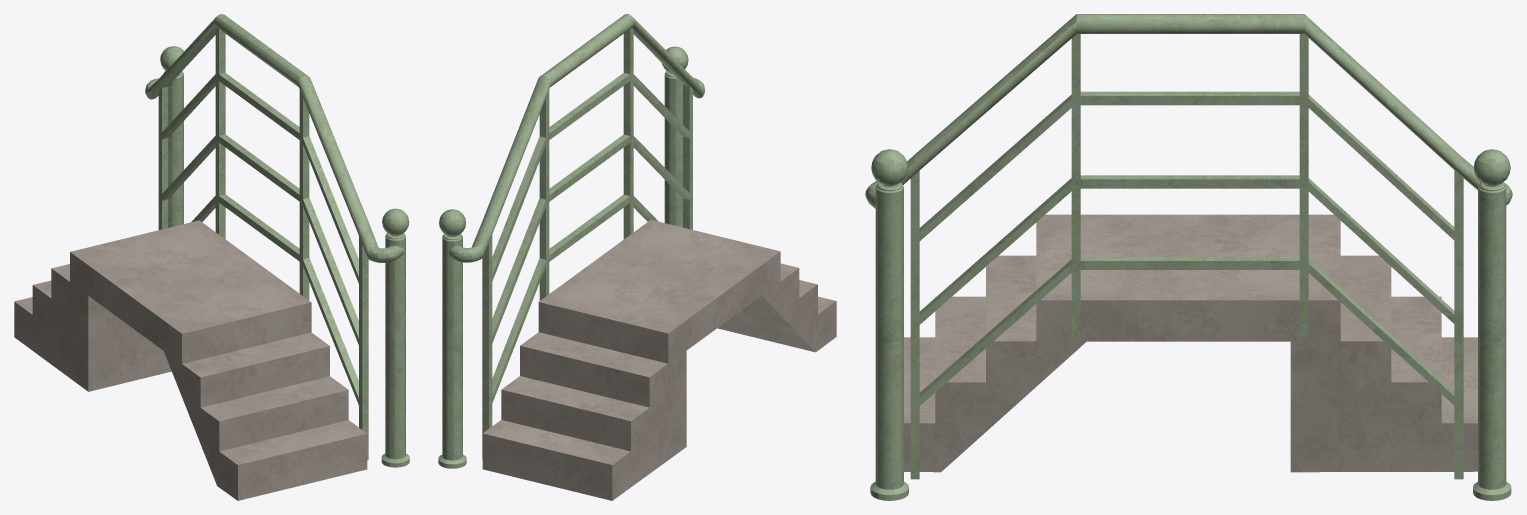
File: udlStairs.glb
3 views of the same model, side by side, from view 1: azimuth 30°, elevation 25°; view 2: azimuth 150°, elevation 25°; view 3: azimuth 270°, elevation 25° (orthographic). The views are drawn at different scales.
Parts seen in each view (by area): view 1: Stair, StairsHandle; view 2: Stair, StairsHandle; view 3: Stair, StairsHandle.
Boxes of the visible parts, box(x1,y1,x2,y2) form: Stair: box(14, 220, 367, 500); StairsHandle: box(145, 14, 409, 467); Stair: box(482, 220, 836, 500); StairsHandle: box(438, 14, 704, 468); Stair: box(904, 214, 1477, 472); StairsHandle: box(865, 14, 1512, 500).
Size of the model in its own units: 1.33 by 2.52 by 3.19.
Materials: 2 (2 with a texture image).
